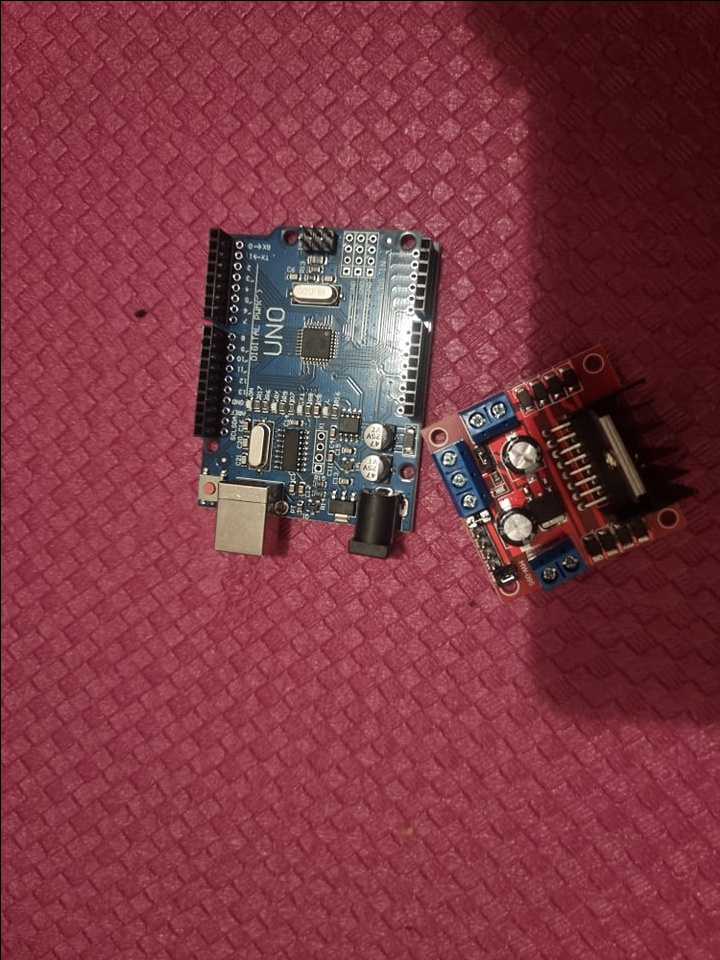MOTOR: (420, 333, 685, 608)
UNO R3: (196, 217, 438, 570)
